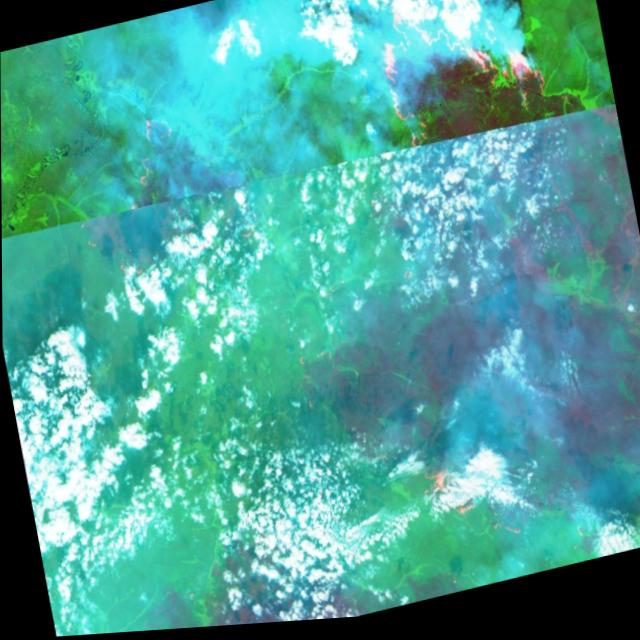fire: (367, 0, 559, 157), (121, 105, 186, 194), (417, 458, 480, 539)
